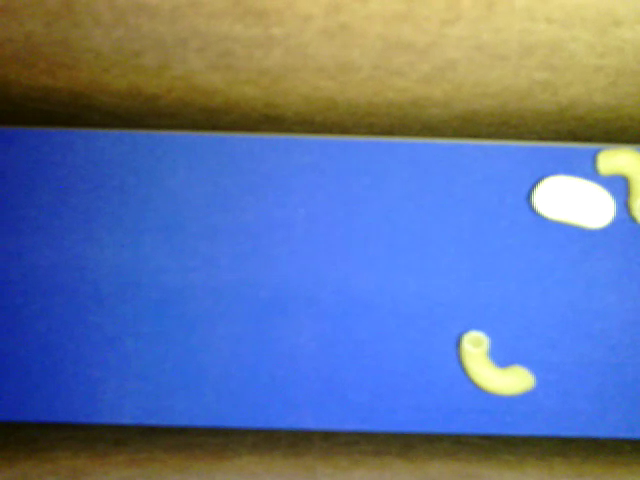elbow: (458, 330, 535, 395), (595, 147, 639, 223)
